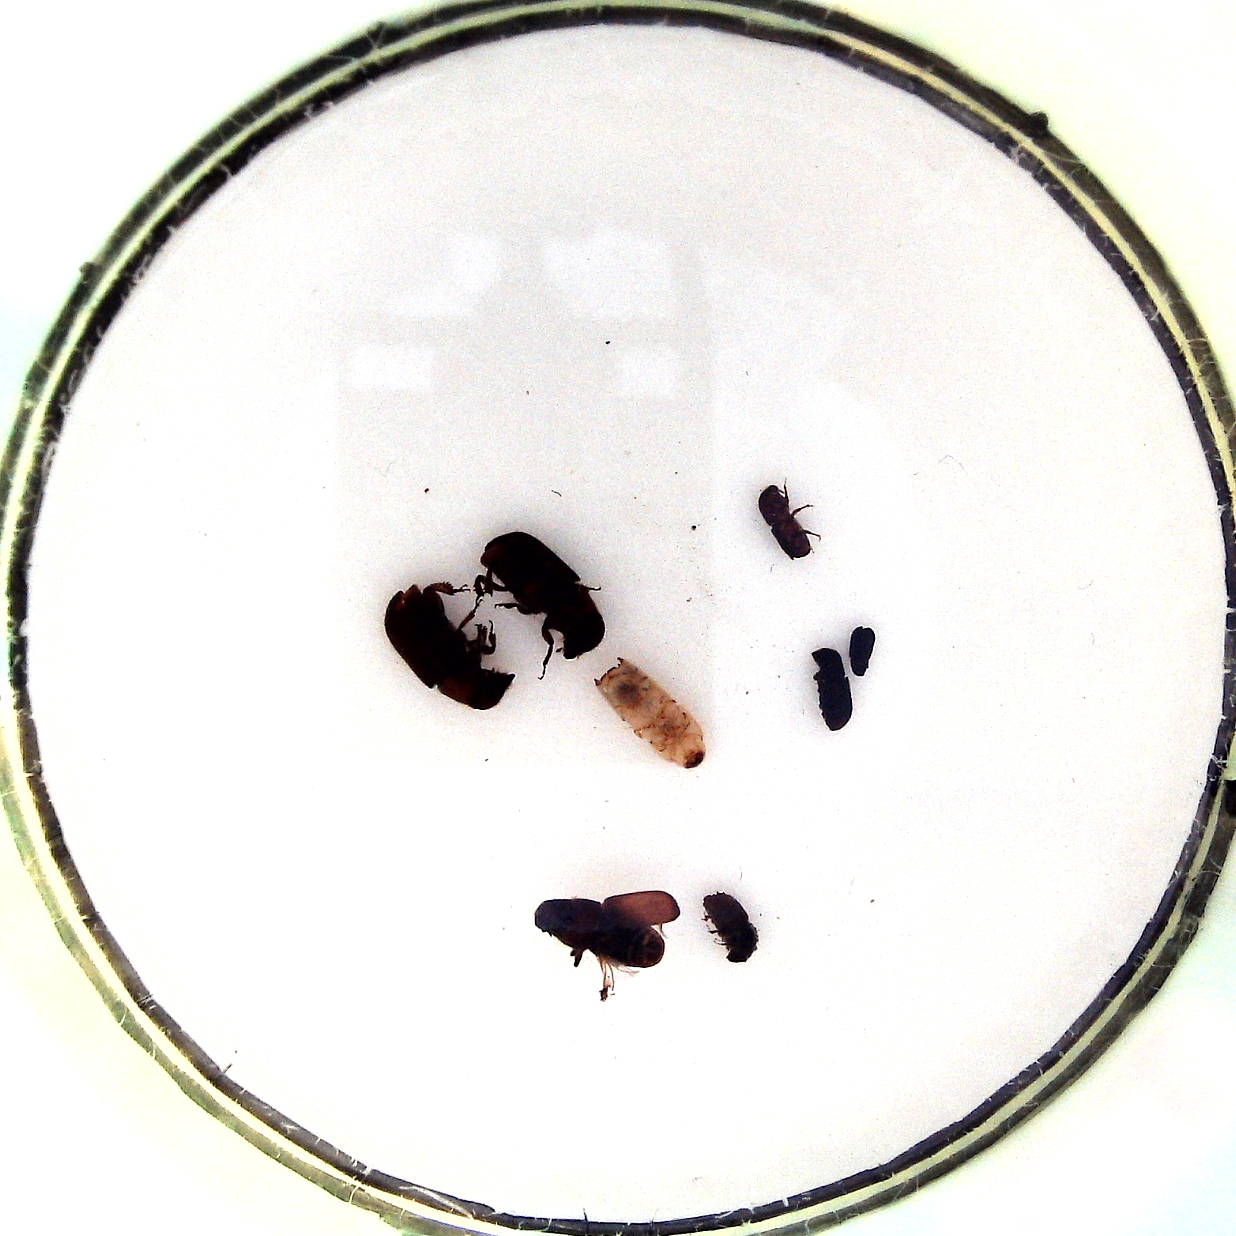Boerner: (594, 656, 709, 773)
Leconte: (531, 887, 683, 1006), (381, 582, 513, 709), (477, 532, 607, 659)
Linnaeus: (699, 887, 761, 968)
acuminatus: (756, 480, 822, 563)
armandi: (807, 642, 853, 731)
coleoptera: (846, 626, 877, 680)
